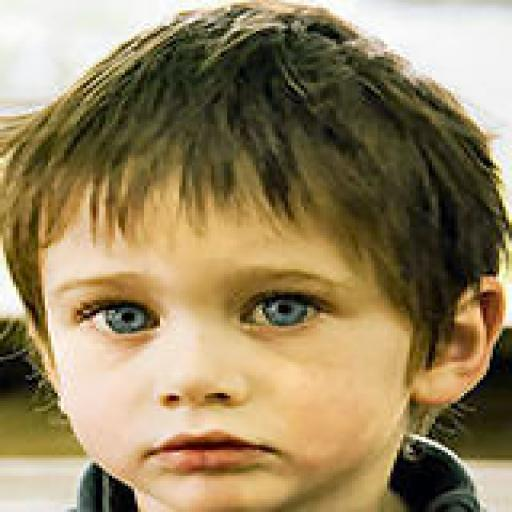Autism: (38, 18, 493, 512)
